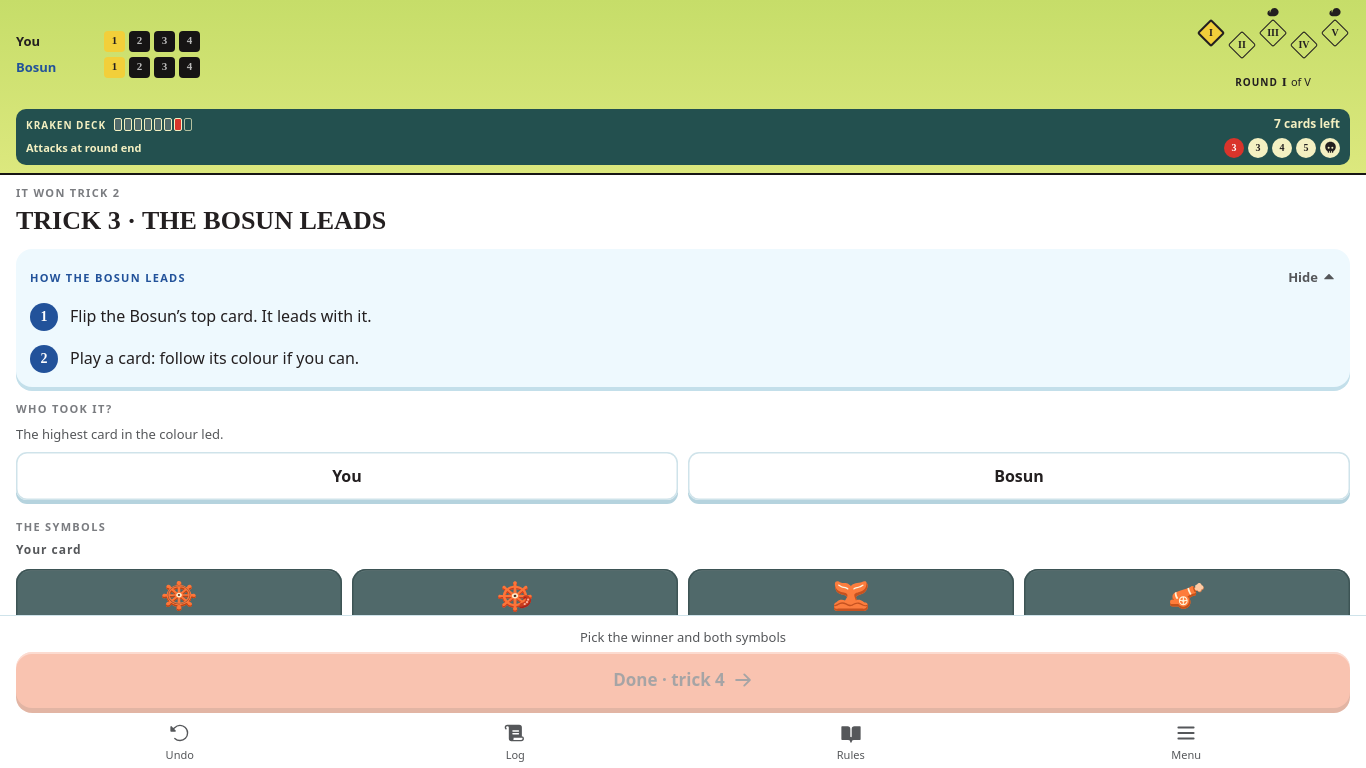
Scenario: the ship’s log (D4) and Fix the trackers (D5) › lists the voyage newest first
This screenshot has width=1366, height=768.
Click the button "Log": x=515, y=742 [348,716,683,767]
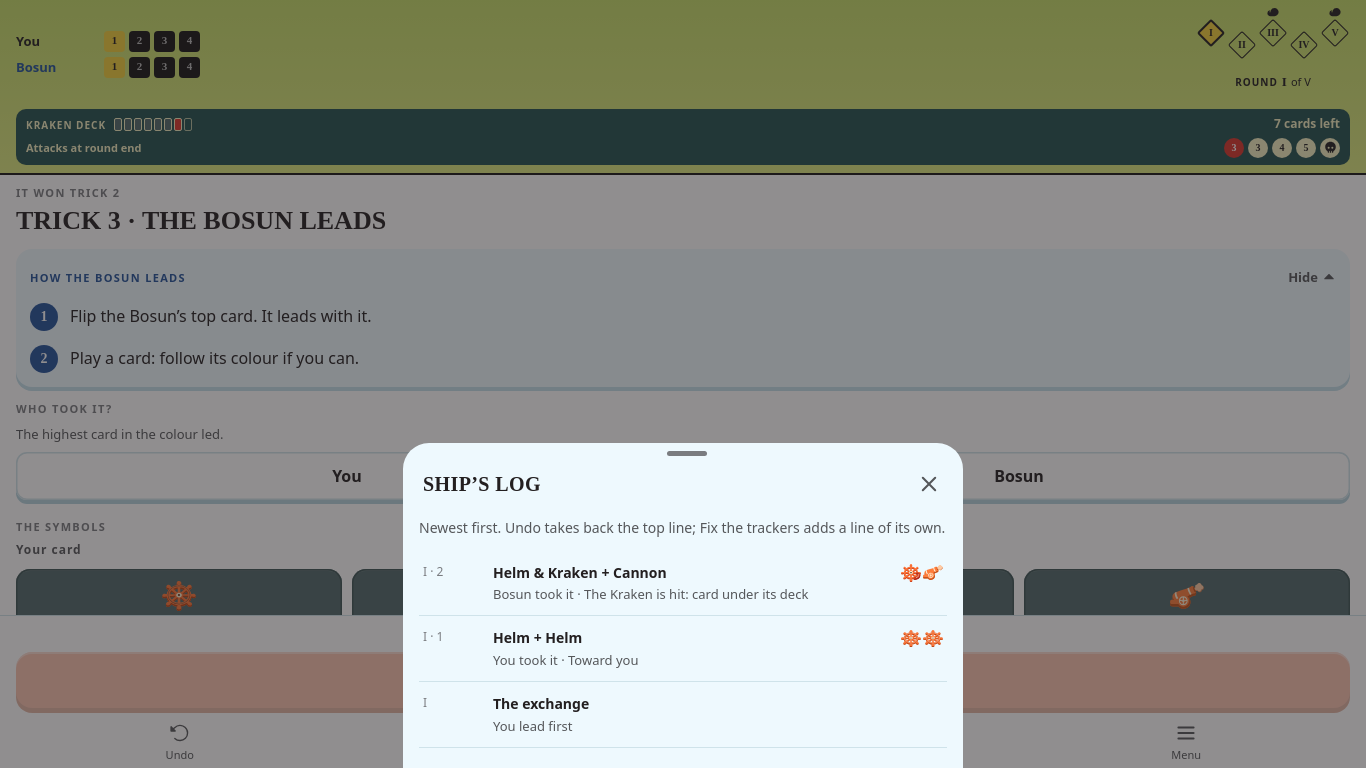
Result: the list item that starts with "I · 2" shows "Helm & Kraken + Cannon" at [493,563,667,582]
Result: the list item that starts with "I · 2" shows "Bosun took it · The Kraken is hit: card under its deck" at [493,585,808,603]
Result: the list item "I · 1 Helm + Helm You took it · Toward you" is shown at [419,616,947,682]
